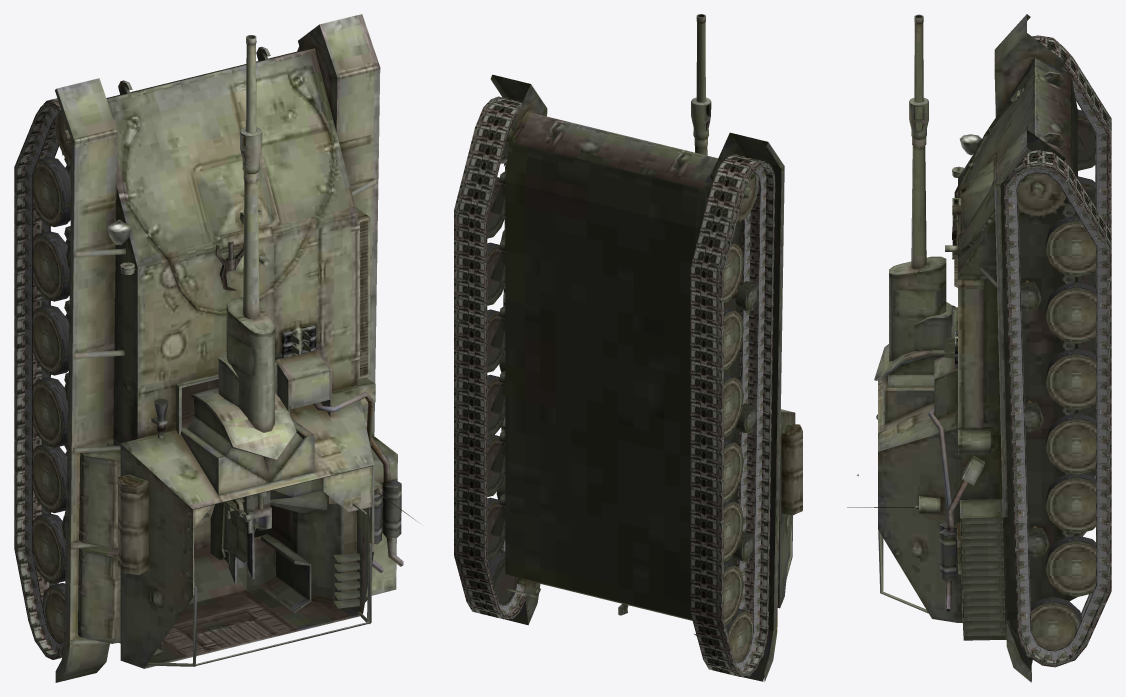
3 renders of one model, left to right at view 1: azimuth 30°, elevation 25°; view 2: azimuth 150°, elevation 25°; view 3: azimuth 270°, elevation 25°, orthographic. The views are drawn at different scales.
Visible parts, largest first — view 1: hull, chassis_track_L, gun_03, gun_01, gun_04, turret_01, chassis_wheel_L_02, chassis_wheel_L_05, chassis_wheel_L_04, chassis_wheel_L_07, chassis_wheel_L_08, chassis_wheel_L_10 (+1 smaller); view 2: hull, chassis_track_L, chassis_track_R, chassis_wheel_L_11, chassis_wheel_L_05, chassis_wheel_L_04, chassis_wheel_L_07, chassis_wheel_L_10, chassis_wheel_L_08, gun_03, chassis_wheel_R_11, chassis_wheel_L_02 (+8 smaller); view 3: hull, chassis_track_R, gun_04, chassis_track_L, gun_03, chassis_wheel_R_04, chassis_wheel_R_05, chassis_wheel_R_07, chassis_wheel_R_10, chassis_wheel_R_08, chassis_wheel_R_02, chassis_wheel_R_11 (+7 smaller).
Boxes of the visible parts, box(x1,y1,x2,y2) form: hull: box(55, 14, 417, 682); chassis_track_L: box(14, 98, 71, 659); gun_03: box(191, 127, 290, 579); gun_01: box(192, 352, 287, 583); gun_04: box(205, 35, 296, 583); turret_01: box(187, 398, 302, 481); chassis_wheel_L_02: box(33, 157, 70, 227); chassis_wheel_L_05: box(33, 305, 69, 375); chassis_wheel_L_04: box(33, 231, 69, 301); chassis_wheel_L_07: box(33, 377, 67, 447); chassis_wheel_L_08: box(33, 444, 67, 513); chassis_wheel_L_10: box(32, 513, 65, 583); hull: box(490, 74, 802, 681); chassis_track_L: box(690, 154, 775, 676); chassis_track_R: box(454, 96, 525, 619); chassis_wheel_L_11: box(725, 608, 753, 661); chassis_wheel_L_05: box(724, 374, 743, 436); chassis_wheel_L_04: box(724, 307, 743, 370); chassis_wheel_L_07: box(724, 440, 743, 502); chassis_wheel_L_10: box(724, 562, 743, 624); chassis_wheel_L_08: box(724, 500, 743, 561); gun_03: box(691, 97, 711, 155); chassis_wheel_R_11: box(487, 551, 517, 604); chassis_wheel_L_02: box(724, 242, 743, 302); hull: box(847, 14, 1083, 682); chassis_track_R: box(1004, 150, 1111, 667); gun_04: box(874, 14, 946, 419); chassis_track_L: box(1032, 35, 1111, 536); gun_03: box(879, 97, 946, 375); chassis_wheel_R_04: box(1045, 282, 1096, 343); chassis_wheel_R_05: box(1045, 348, 1096, 410); chassis_wheel_R_07: box(1045, 413, 1096, 475); chassis_wheel_R_10: box(1045, 535, 1095, 597); chassis_wheel_R_08: box(1045, 473, 1095, 533); chassis_wheel_R_02: box(1045, 215, 1096, 277); chassis_wheel_R_11: box(1031, 597, 1081, 650).
Size of the model in its own units: 2.8 by 5.78 by 2.48.
2 materials, 2 textured.
